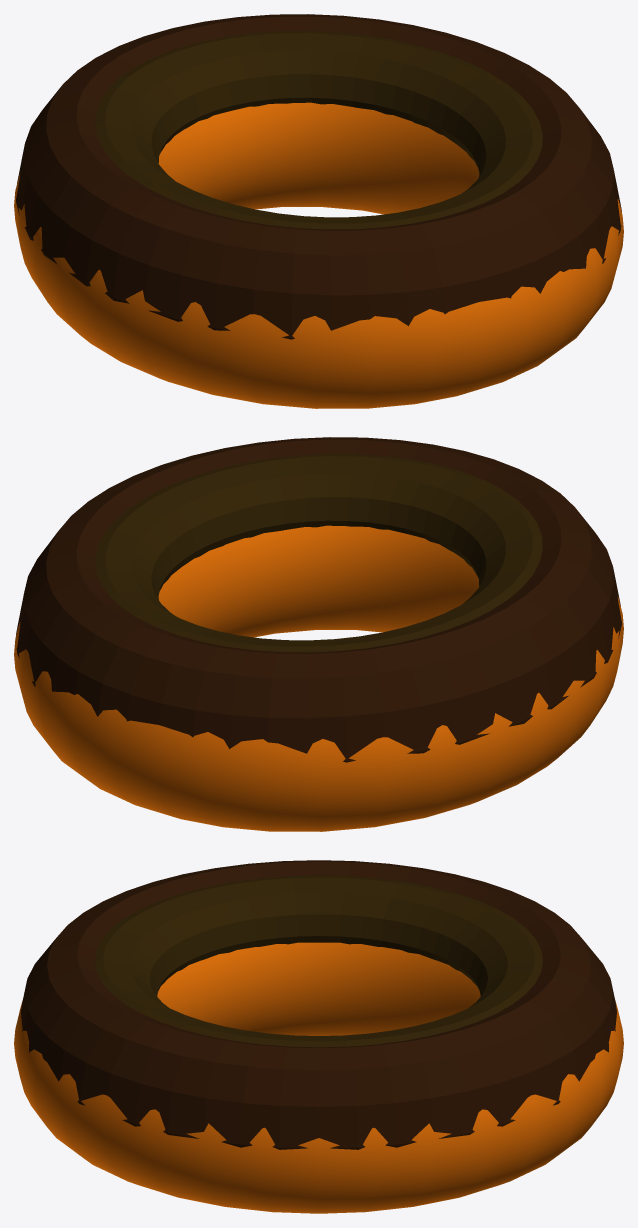
The model's file is DOUNTE glb.glb.
3 views of the same model, one above another, from view 1: azimuth 30°, elevation 25°; view 2: azimuth 150°, elevation 25°; view 3: azimuth 270°, elevation 25° (orthographic). The views are drawn at different scales.
Parts seen in each view (by area): view 1: Torus, SurfTorus, Torus.001; view 2: Torus, SurfTorus, Torus.001; view 3: Torus, SurfTorus, Torus.001.
Boxes of the visible parts, x1,y1,x2,y2 form: Torus: [16, 14, 621, 339]; SurfTorus: [14, 102, 623, 408]; Torus.001: [95, 31, 542, 229]; Torus: [16, 437, 621, 762]; SurfTorus: [14, 525, 623, 831]; Torus.001: [95, 454, 542, 652]; Torus: [21, 860, 616, 1149]; SurfTorus: [14, 942, 623, 1213]; Torus.001: [95, 875, 542, 1047].
Size of the model in its own units: 1.45 by 0.4767 by 1.59.
